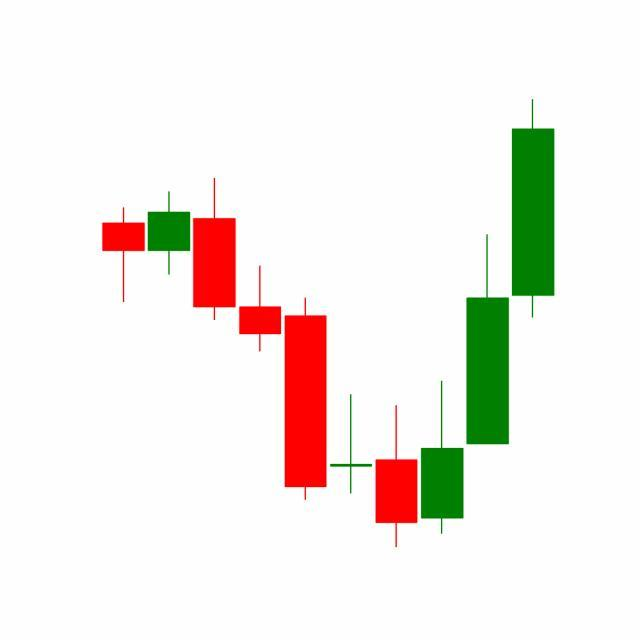Hikkake Pattern: (283, 230, 512, 548)
